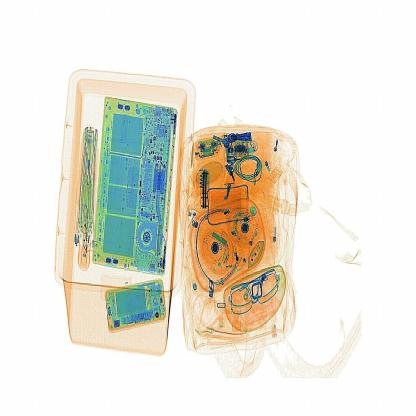scissors: (198, 168, 208, 210)
